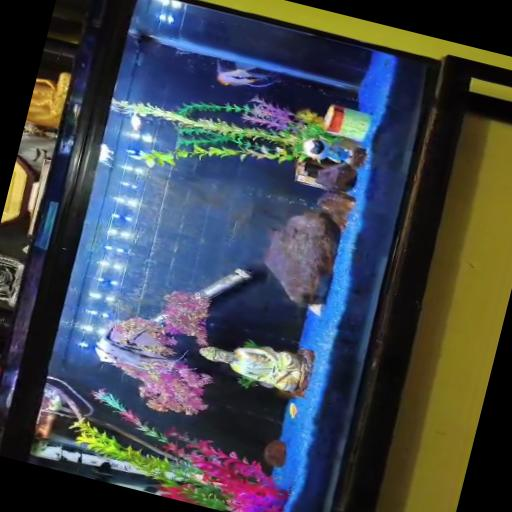Fish: (96, 329, 187, 373), (217, 60, 274, 88), (99, 144, 114, 168), (130, 114, 142, 132), (289, 403, 298, 418)
